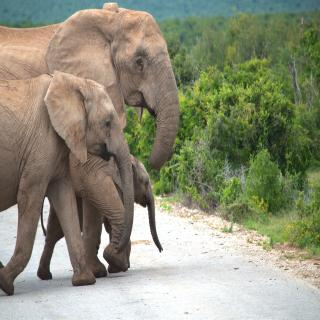Elephant: (0, 0, 183, 194), (0, 66, 136, 296), (27, 143, 165, 282)
